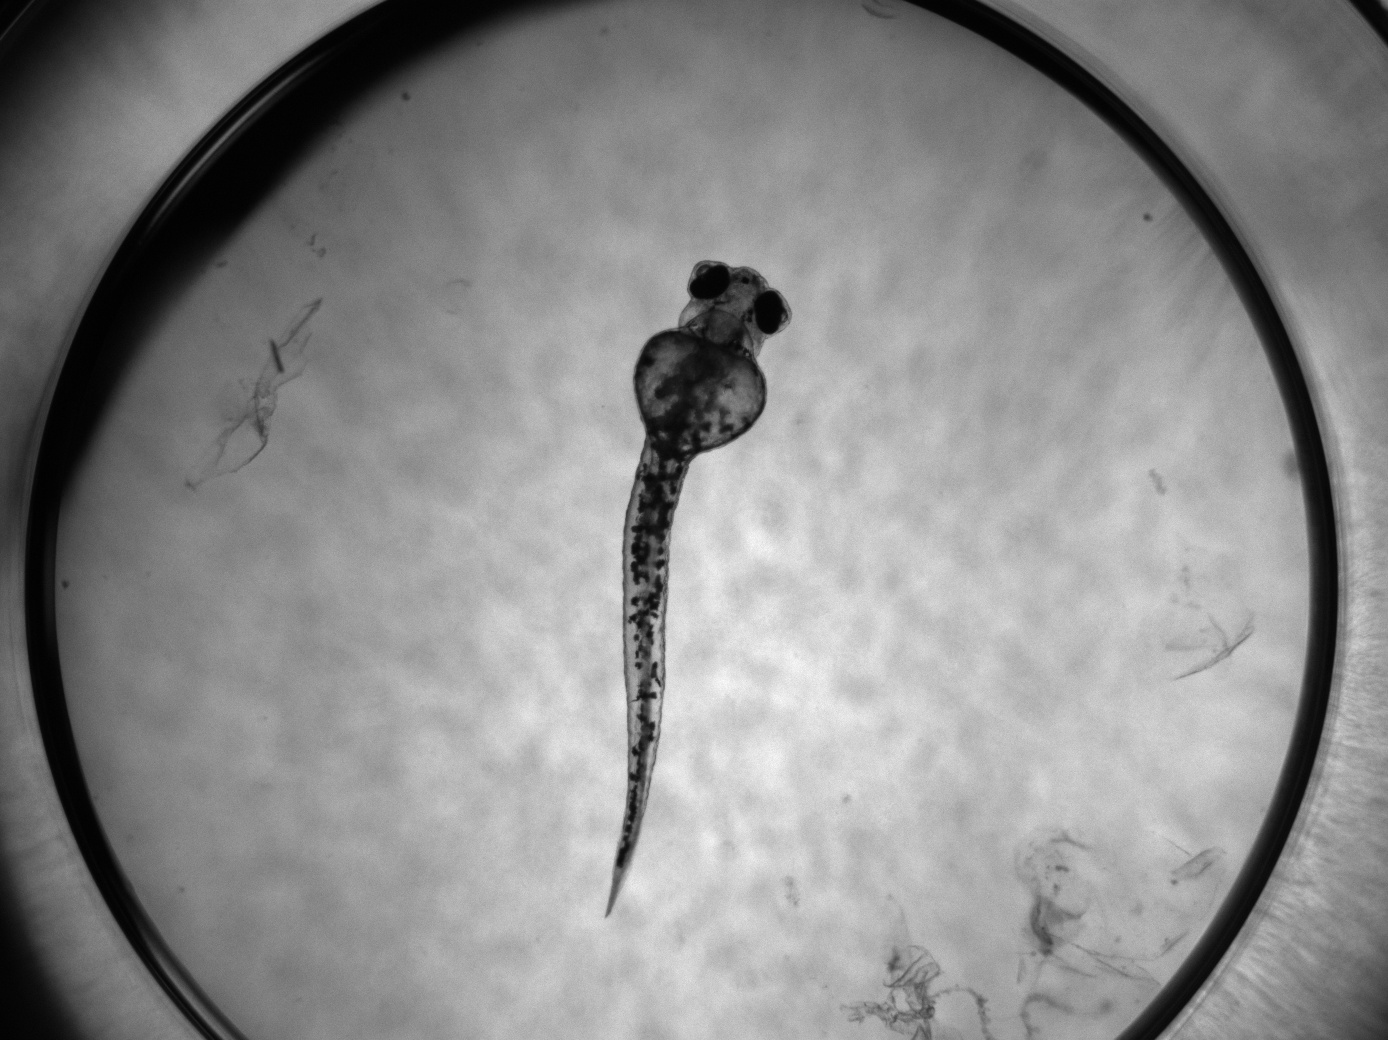debris: (1012, 824, 1239, 1040), (183, 294, 327, 489), (827, 893, 1013, 1040)
embryo: (605, 259, 794, 919)
eye: (688, 264, 731, 300), (754, 289, 785, 335)
yolksac: (633, 329, 768, 454)
